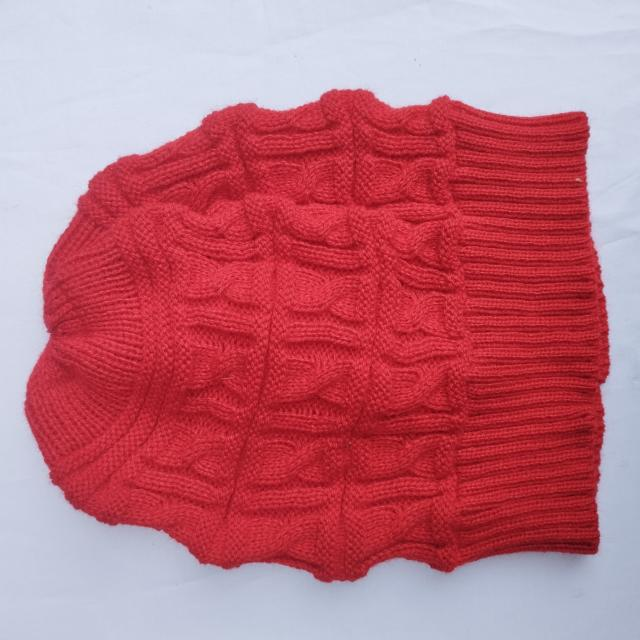Gorro: (24, 87, 611, 583)
